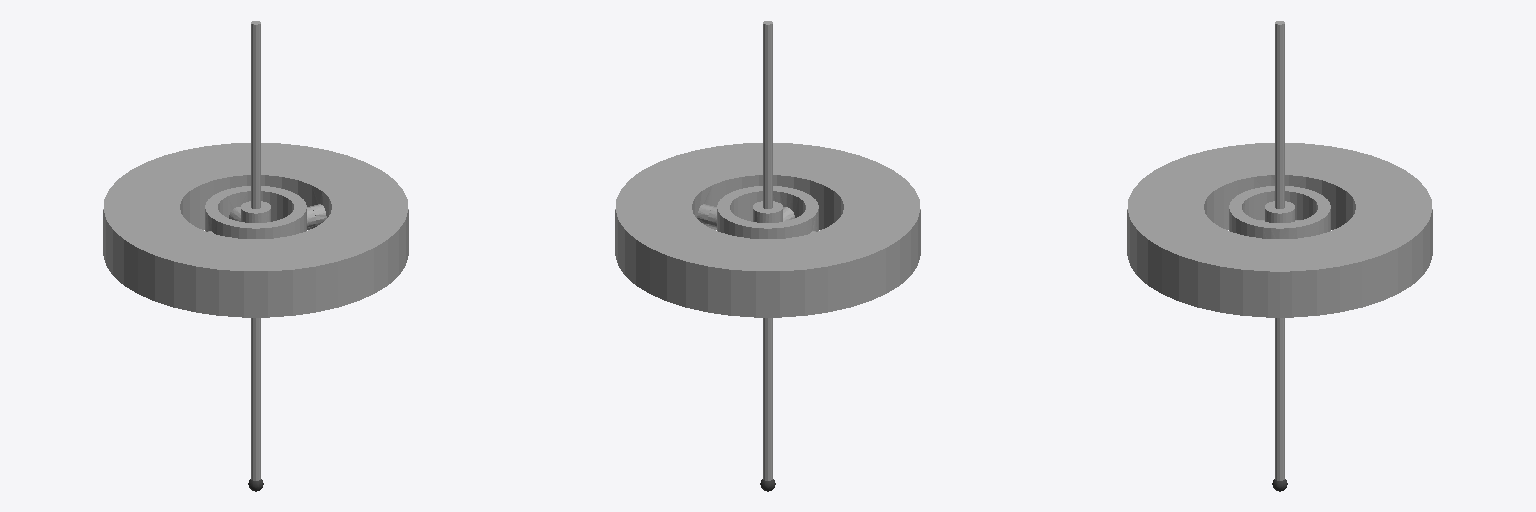
The robot description file, URDF, robot "RRP_Hopper":
<?xml version="1.0" encoding="utf-8"?>
<!-- This URDF was automatically created by SolidWorks to URDF Exporter! Originally created by [author] ([email redacted]) 
     Commit Version: 1.5.1-0-g916b5db  Build Version: 1.5.7152.31018
     For more information, please see http://wiki.ros.org/sw_urdf_exporter -->
<robot
  name="RRP_Hopper">
  <link
    name="base_link">
    <inertial>
      <origin
        xyz="-3.7899E-09 -1.8557E-09 -1.0088E-08"
        rpy="0 0 0" />
      <mass
        value="9.1451" />
      <inertia
        ixx="0.26406"
        ixy="1.3922E-08"
        ixz="1.0119E-08"
        iyy="0.26456"
        iyz="-1.7143E-09"
        izz="0.51342" />
    </inertial>
    <visual>
      <origin
        xyz="0 0 0"
        rpy="0 0 0" />
      <geometry>
        <mesh
          filename="package://RRP_Hopper/meshes/base_link.STL" />
      </geometry>
      <material
        name="">
        <color
          rgba="0.69804 0.69804 0.69804 1" />
      </material>
    </visual>
    <collision>
      <origin
        xyz="0 0 0"
        rpy="0 0 0" />
      <geometry>
        <mesh
          filename="package://RRP_Hopper/meshes/base_link.STL" />
      </geometry>
    </collision>
  </link>
  <link
    name="link_1">
    <inertial>
      <origin
        xyz="1.2708E-18 -6.7677E-18 1.7388E-09"
        rpy="0 0 0" />
      <mass
        value="0.59988" />
      <inertia
        ixx="0.0027091"
        ixy="2.0181E-09"
        ixz="-5.3742E-20"
        iyy="0.0029376"
        iyz="-3.4613E-20"
        izz="0.0047203" />
    </inertial>
    <visual>
      <origin
        xyz="0 0 0"
        rpy="0 0 0" />
      <geometry>
        <mesh
          filename="package://RRP_Hopper/meshes/link_1.STL" />
      </geometry>
      <material
        name="">
        <color
          rgba="0.69804 0.69804 0.69804 1" />
      </material>
    </visual>
    <collision>
      <origin
        xyz="0 0 0"
        rpy="0 0 0" />
      <geometry>
        <mesh
          filename="package://RRP_Hopper/meshes/link_1.STL" />
      </geometry>
    </collision>
  </link>
  <joint
    name="joint_1"
    type="revolute">
    <origin
      xyz="0 0 0"
      rpy="0 0 0" />
    <parent
      link="base_link" />
    <child
      link="link_1" />
    <axis
      xyz="1 0 0" />
    <limit
      lower="-1.05"
      upper="1.05"
      effort="0"
      velocity="0" />
  </joint>
  <link
    name="link_2">
    <inertial>
      <origin
        xyz="-4.2963E-08 -3.0026E-07 6.4053E-09"
        rpy="0 0 0" />
      <mass
        value="0.25006" />
      <inertia
        ixx="0.00029677"
        ixy="-3.6508E-10"
        ixz="4.5862E-11"
        iyy="0.00023164"
        iyz="9.0964E-11"
        izz="0.00017749" />
    </inertial>
    <visual>
      <origin
        xyz="0 0 0"
        rpy="0 0 0" />
      <geometry>
        <mesh
          filename="package://RRP_Hopper/meshes/link_2.STL" />
      </geometry>
      <material
        name="">
        <color
          rgba="0.69804 0.69804 0.69804 1" />
      </material>
    </visual>
    <collision>
      <origin
        xyz="0 0 0"
        rpy="0 0 0" />
      <geometry>
        <mesh
          filename="package://RRP_Hopper/meshes/link_2.STL" />
      </geometry>
    </collision>
  </link>
  <joint
    name="joint_2"
    type="revolute">
    <origin
      xyz="0 0 0"
      rpy="0 0 0" />
    <parent
      link="link_1" />
    <child
      link="link_2" />
    <axis
      xyz="0 1 0" />
    <limit
      lower="-1.05"
      upper="1.05"
      effort="0"
      velocity="0" />
  </joint>
  <link
    name="link_3">
    <inertial>
      <origin
        xyz="-5.3193E-19 0 -0.05"
        rpy="0 0 0" />
      <mass
        value="0.58214" />
      <inertia
        ixx="0.048526"
        ixy="0"
        ixz="0"
        iyy="0.048526"
        iyz="-5.6248E-36"
        izz="2.9107E-05" />
    </inertial>
    <visual>
      <origin
        xyz="0 0 0"
        rpy="0 0 0" />
      <geometry>
        <mesh
          filename="package://RRP_Hopper/meshes/link_3.STL" />
      </geometry>
      <material
        name="">
        <color
          rgba="0.69804 0.69804 0.69804 1" />
      </material>
    </visual>
    <collision>
      <origin
        xyz="0 0 0"
        rpy="0 0 0" />
      <geometry>
        <mesh
          filename="package://RRP_Hopper/meshes/link_3.STL" />
      </geometry>
    </collision>
  </link>
  <joint
    name="joint_3"
    type="prismatic">
    <origin
      xyz="0 0 0"
      rpy="0 0 0" />
    <parent
      link="link_2" />
    <child
      link="link_3" />
    <axis
      xyz="0 0 -1" />
    <limit
      lower="-0.35"
      upper="0.35"
      effort="0"
      velocity="0" />
  </joint>
  <link
    name="link_toe">
    <inertial>
      <origin
        xyz="0 -3.4443E-19 0"
        rpy="0 0 0" />
      <mass
        value="0.017622" />
      <inertia
        ixx="1.586E-06"
        ixy="0"
        ixz="0"
        iyy="1.586E-06"
        iyz="0"
        izz="1.586E-06" />
    </inertial>
    <visual>
      <origin
        xyz="0 0 0"
        rpy="0 0 0" />
      <geometry>
        <mesh
          filename="package://RRP_Hopper/meshes/link_toe.STL" />
      </geometry>
      <material
        name="">
        <color
          rgba="0.29804 0.29804 0.29804 1" />
      </material>
    </visual>
    <collision>
      <origin
        xyz="0 0 0"
        rpy="0 0 0" />
      <geometry>
        <mesh
          filename="package://RRP_Hopper/meshes/link_toe.STL" />
      </geometry>
    </collision>
  </link>
  <joint
    name="joint_toe"
    type="fixed">
    <origin
      xyz="0 0 -0.55"
      rpy="0 0 0" />
    <parent
      link="link_3" />
    <child
      link="link_toe" />
    <axis
      xyz="0 0 0" />
  </joint>
</robot>

--- Facts derived from the render (not from the file) ---
Views: 3 orthographic renders of the robot side by side, from view 1: azimuth 30°, elevation 25°; view 2: azimuth 150°, elevation 25°; view 3: azimuth 270°, elevation 25°.
Model RRP_Hopper with 5 links and 4 joints (2 revolute, 1 prismatic, 1 fixed), rooted at base_link, posed every joint at zero.
Links seen in each view (by area): view 1: base_link, link_1, link_3, link_2; view 2: base_link, link_1, link_3, link_2; view 3: base_link, link_1, link_3, link_2.
Link boxes in pixels (left/top/right/bottom): base_link: left=103, top=143, right=408, bottom=317; link_1: left=205, top=186, right=315, bottom=238; link_3: left=251, top=21, right=260, bottom=480; link_2: left=235, top=201, right=270, bottom=222; base_link: left=615, top=143, right=920, bottom=317; link_1: left=708, top=186, right=818, bottom=238; link_3: left=763, top=21, right=772, bottom=480; link_2: left=753, top=201, right=788, bottom=222; base_link: left=1127, top=143, right=1432, bottom=317; link_1: left=1229, top=186, right=1330, bottom=238; link_3: left=1275, top=21, right=1284, bottom=480; link_2: left=1259, top=201, right=1300, bottom=222.
Bounding box of the posed robot: 0.6 × 0.5995 × 1.01 m (x, y, z).
5 mesh visuals loaded from 5 distinct referenced files (5 binary STL).